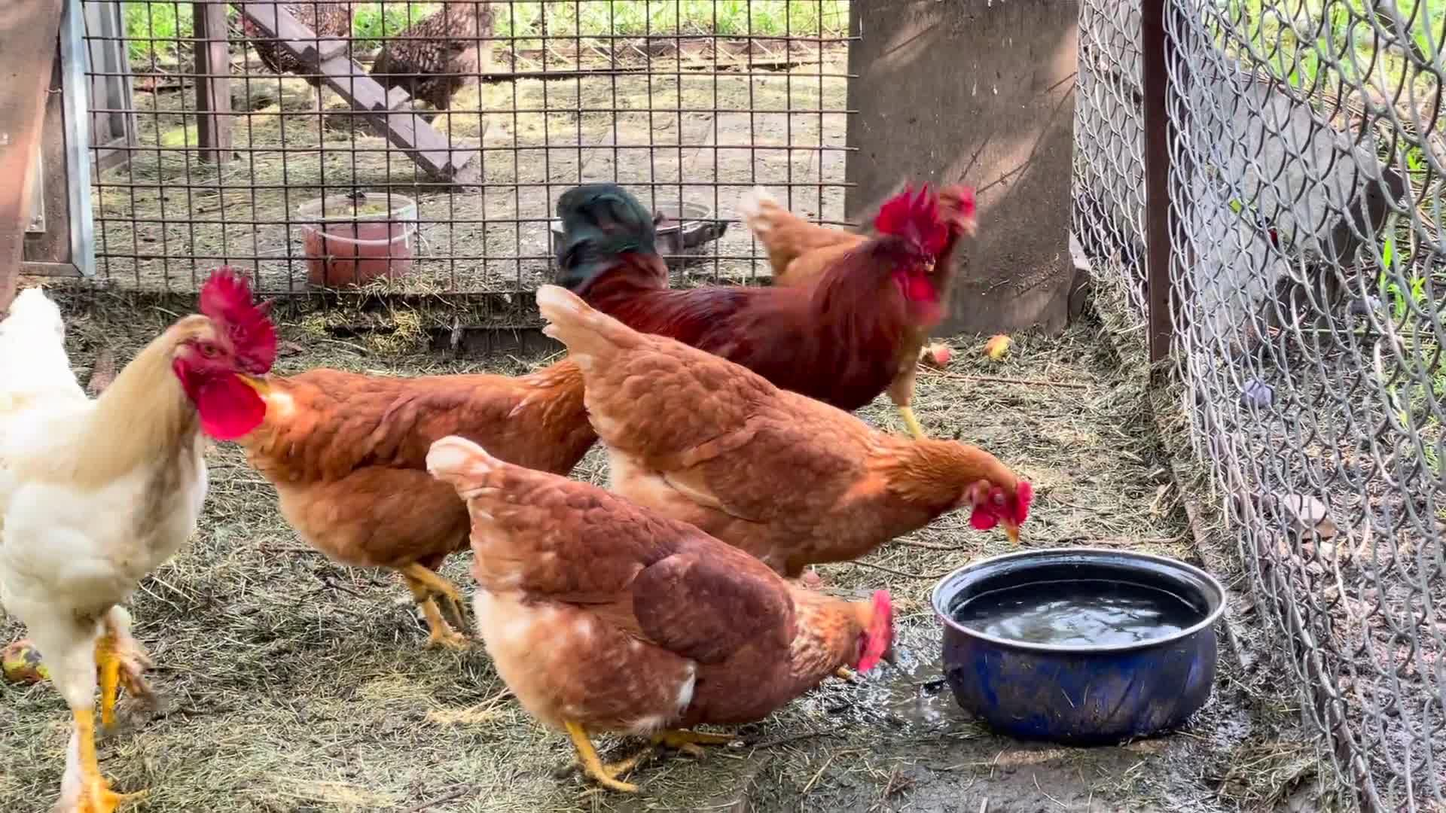Normal: (430, 437, 896, 780), (2, 269, 271, 813), (546, 288, 1033, 578), (563, 177, 957, 416), (281, 373, 596, 639), (742, 187, 1021, 428)
